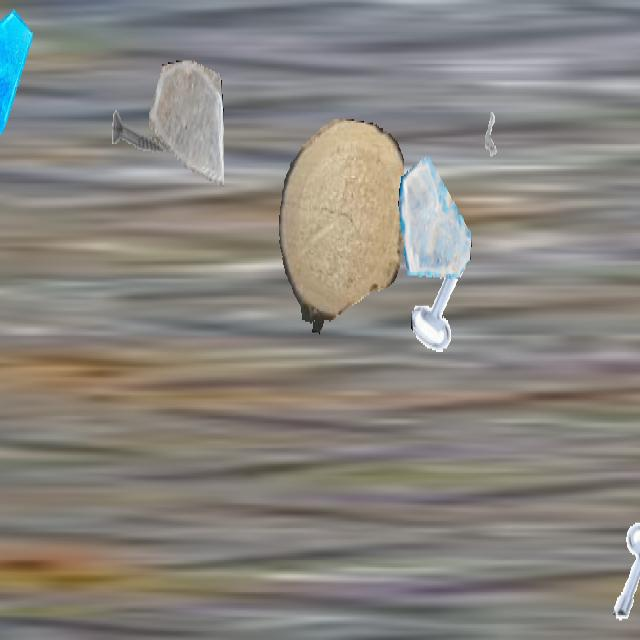glass: (149, 60, 223, 192), (398, 151, 472, 283), (0, 2, 32, 137)
metal: (110, 76, 172, 186), (411, 247, 473, 357), (606, 516, 640, 622), (472, 92, 510, 160)
wood: (279, 119, 403, 336)
